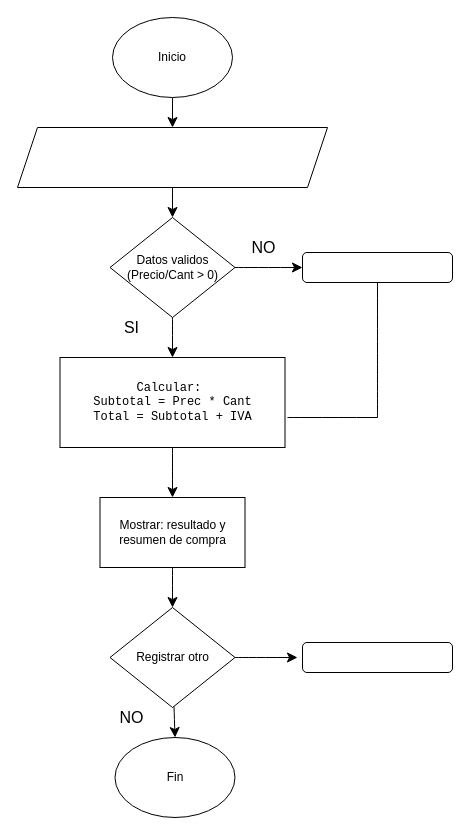
Some shapes in this 470 by 835 pixel diagram are drawn without their labels. The shapes that lost their labels are listed below. From the top down, each one's centre as x and y in pixels, then its label:
the point at 172,157: Leer nombre, precio y cantidad
the point at 377,267: Mostrar: "Error"
the point at 377,657: Volver al inicio
